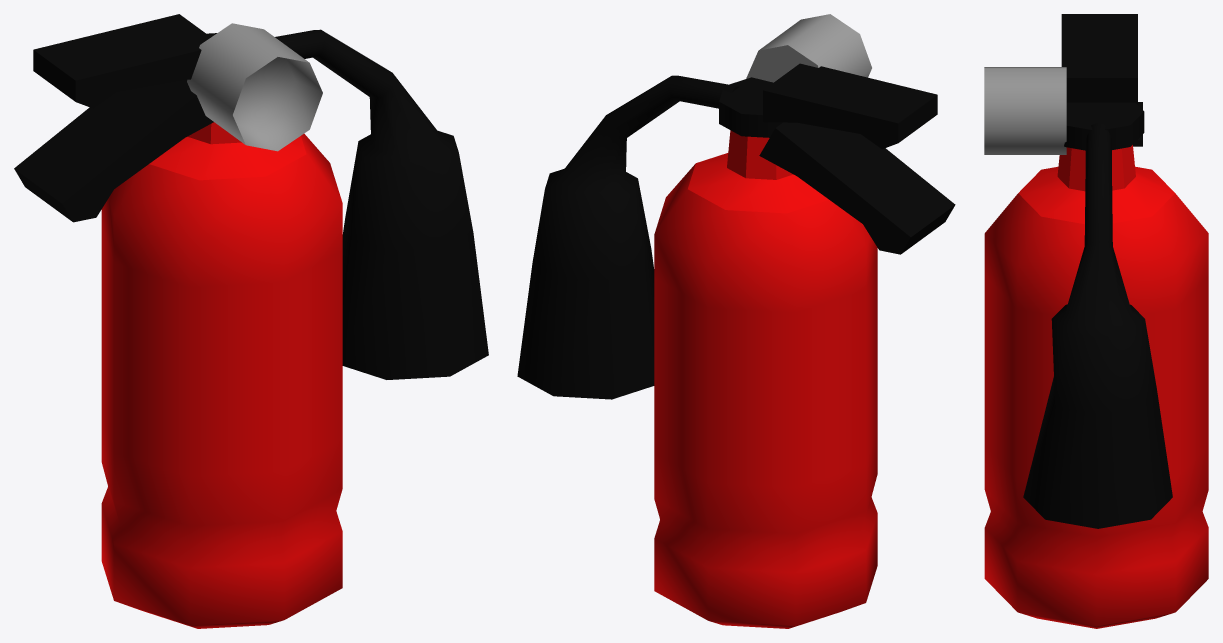
Rendered from fire extinguisher.FBX.
The picture shows the model from 3 angles, left to right: view 1: azimuth 30°, elevation 25°; view 2: azimuth 150°, elevation 25°; view 3: azimuth 270°, elevation 25°; orthographic projection. The views are drawn at different scales.
Parts seen in each view (by area): view 1: Cylinder001, Cylinder003, Box002, Cylinder002, Box001; view 2: Cylinder001, Cylinder003, Box002, Box001, Cylinder002, Cylinder004; view 3: Cylinder001, Cylinder003, Cylinder002, Box001, Cylinder004.
Boxes of the visible parts, <box> form: Cylinder001: <box>101,122,342,628</box>; Cylinder003: <box>275,29,488,379</box>; Box002: <box>14,79,213,222</box>; Cylinder002: <box>187,23,322,151</box>; Box001: <box>33,14,210,108</box>; Cylinder001: <box>654,130,877,628</box>; Cylinder003: <box>517,75,739,399</box>; Box002: <box>759,122,955,254</box>; Box001: <box>763,63,937,149</box>; Cylinder002: <box>746,14,871,82</box>; Cylinder004: <box>719,77,782,137</box>; Cylinder001: <box>984,145,1208,628</box>; Cylinder003: <box>1023,122,1172,528</box>; Cylinder002: <box>984,67,1066,154</box>; Box001: <box>1061,14,1137,104</box>; Cylinder004: <box>1064,102,1144,150</box>.
Size of the model in its own units: 69.99 by 88.12 by 34.34.
